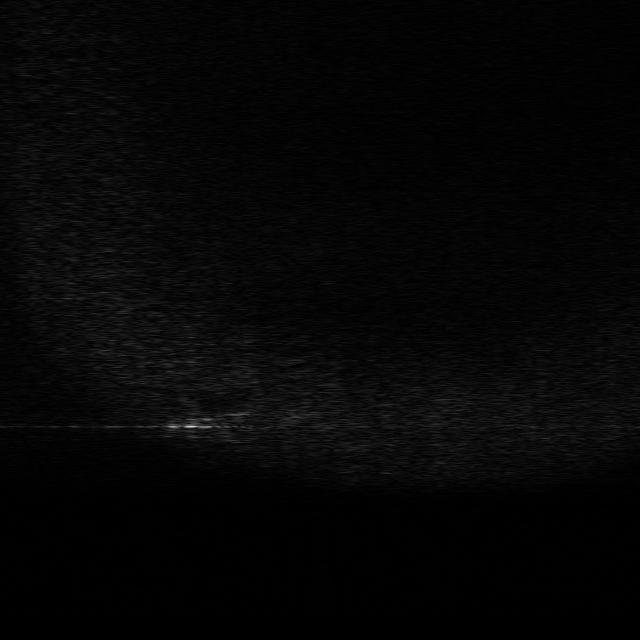plane: (159, 398, 249, 442)
